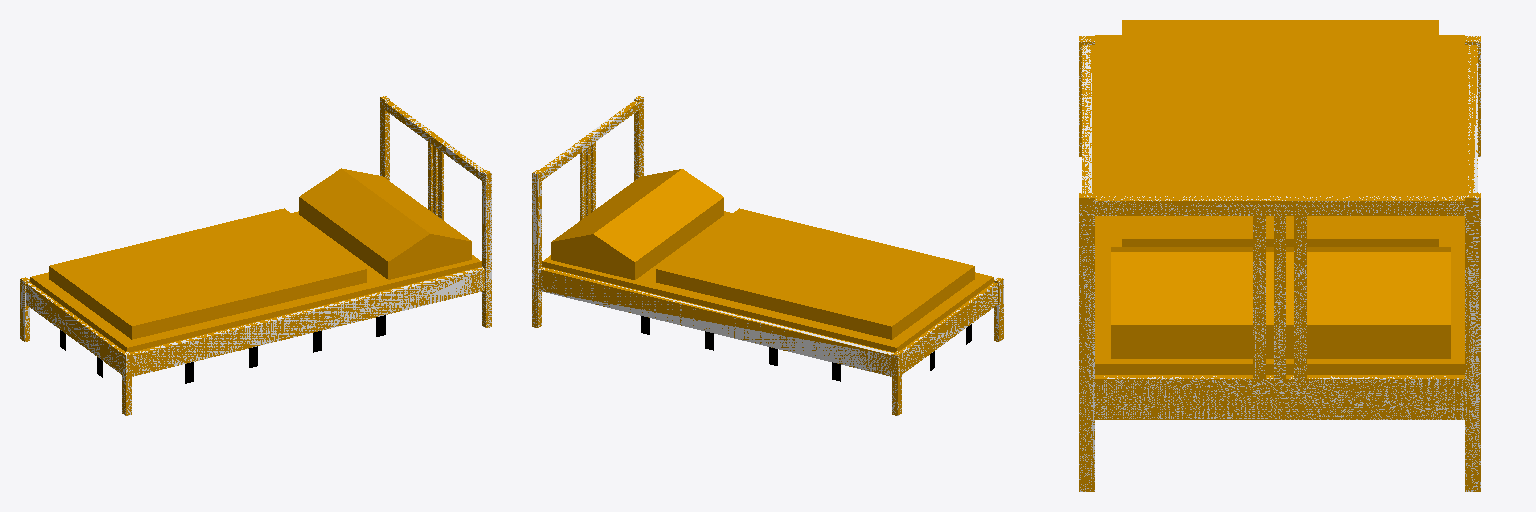
robot.urdf — bed:
<?xml version="1.0" ?> 
<robot name="bed" static="true">
  <link name="base_link">
  <inertial>
    <mass value="20.0" />
    <origin xyz="0 0 0.0" />
    <inertia ixx="1.0" ixy="0.0" ixz="0.0" iyy="1.0" iyz="0.0" izz="1.0"/>
  </inertial>
  <visual>
   <origin xyz="0 0 0.0" rpy="0 0 0" />
   <geometry>
     <mesh filename="package://cob_gazebo_objects/Media/models/bed.dae"/>
   </geometry>
  </visual>
  <collision>
   <origin xyz="0 0 0.0" rpy="0 0 0" />
   <geometry>
     <mesh filename="package://cob_gazebo_objects/Media/models/bed.dae" />
   </geometry>
  </collision>     
  </link>

<gazebo>
	<static>true</static>
</gazebo>
</robot>

--- Render facts (derived) ---
The picture shows the robot from 3 angles, left to right: view 1: azimuth 30°, elevation 25°; view 2: azimuth 150°, elevation 25°; view 3: azimuth 270°, elevation 25°; orthographic projection.
Model bed with 1 links and 0 joints (none), rooted at base_link, posed all joints at 0.
Visible links, largest first — view 1: base_link; view 2: base_link; view 3: base_link.
Link boxes in pixels (<box>): base_link: <box>20,96,491,415</box>; base_link: <box>532,96,1003,415</box>; base_link: <box>1079,20,1480,491</box>.
Size in the robot's own frame: 2.01 by 1 by 0.8097 metres.
Meshes: 1 distinct files referenced, 1 mesh visuals loaded (1 Collada DAE).